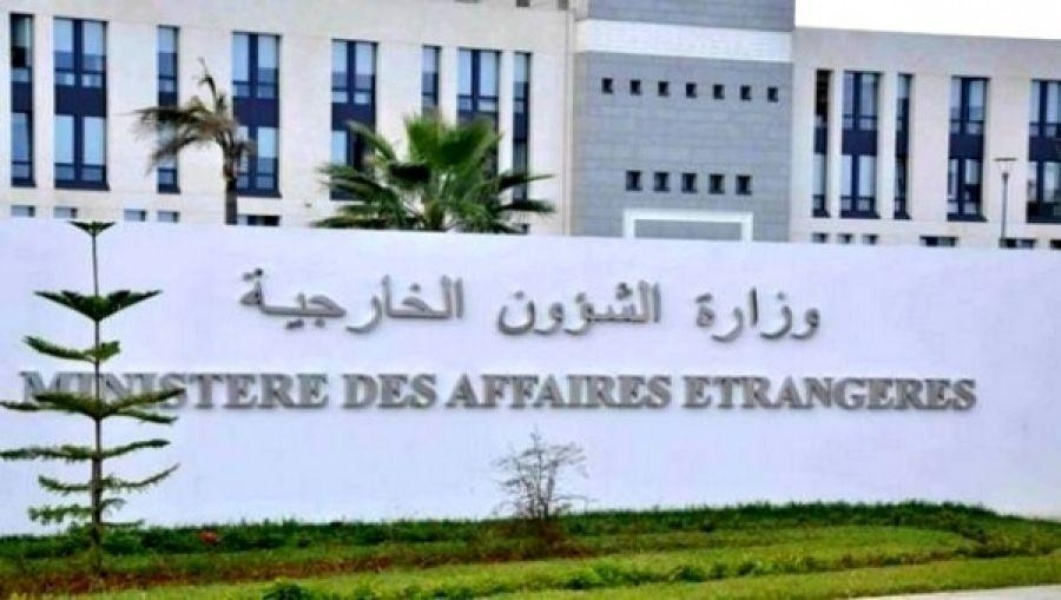text: (241, 266, 256, 336), (257, 266, 272, 336), (273, 266, 288, 336), (289, 266, 304, 336), (305, 266, 320, 336), (321, 266, 336, 336), (337, 266, 352, 336), (353, 266, 368, 336), (369, 266, 384, 336), (385, 266, 400, 336), (401, 266, 416, 336), (417, 266, 432, 336), (433, 266, 448, 336), (449, 266, 464, 336), (705, 286, 720, 345), (721, 286, 736, 345), (737, 286, 752, 345), (753, 286, 768, 345), (769, 286, 784, 345), (785, 286, 800, 345), (801, 286, 816, 345), (497, 279, 512, 338), (513, 279, 528, 338), (529, 279, 544, 338), (545, 279, 560, 338), (561, 279, 576, 338), (577, 279, 592, 338), (593, 279, 608, 338), (609, 279, 624, 338), (625, 279, 640, 338), (641, 279, 656, 338), (33, 369, 48, 414), (49, 369, 64, 414), (65, 369, 80, 414), (81, 369, 96, 414), (97, 369, 112, 414), (113, 369, 128, 414), (129, 369, 144, 414), (145, 369, 160, 414), (161, 369, 176, 414), (177, 369, 192, 414), (193, 369, 208, 414), (209, 369, 224, 414), (225, 369, 240, 414), (241, 369, 256, 414), (257, 369, 272, 414), (273, 369, 288, 414), (289, 369, 304, 414), (305, 369, 320, 414), (693, 286, 704, 345), (353, 373, 368, 411), (369, 373, 384, 411), (385, 373, 400, 411), (401, 373, 416, 411), (417, 373, 432, 411), (689, 373, 704, 411), (705, 373, 720, 411), (721, 373, 736, 411), (737, 373, 752, 411), (753, 373, 768, 411), (769, 373, 784, 411), (785, 373, 800, 411), (801, 373, 816, 411), (817, 373, 832, 411), (833, 373, 848, 411), (849, 373, 864, 411), (865, 373, 880, 411), (881, 373, 896, 411), (897, 373, 912, 411), (913, 373, 928, 411), (929, 373, 944, 411), (945, 373, 960, 411), (961, 373, 976, 411), (465, 374, 480, 411), (481, 374, 496, 411), (497, 374, 512, 411), (513, 374, 528, 411), (529, 374, 544, 411), (545, 374, 560, 411), (561, 374, 576, 411), (577, 374, 592, 411), (593, 374, 608, 411), (609, 374, 624, 411), (625, 374, 640, 411), (641, 374, 656, 411), (657, 374, 671, 411), (321, 369, 332, 414), (657, 279, 665, 338), (341, 373, 352, 411), (23, 369, 32, 414), (817, 286, 822, 345), (433, 373, 439, 411), (682, 373, 688, 411), (977, 373, 983, 411), (458, 374, 464, 411), (493, 279, 496, 338), (239, 266, 240, 336)
